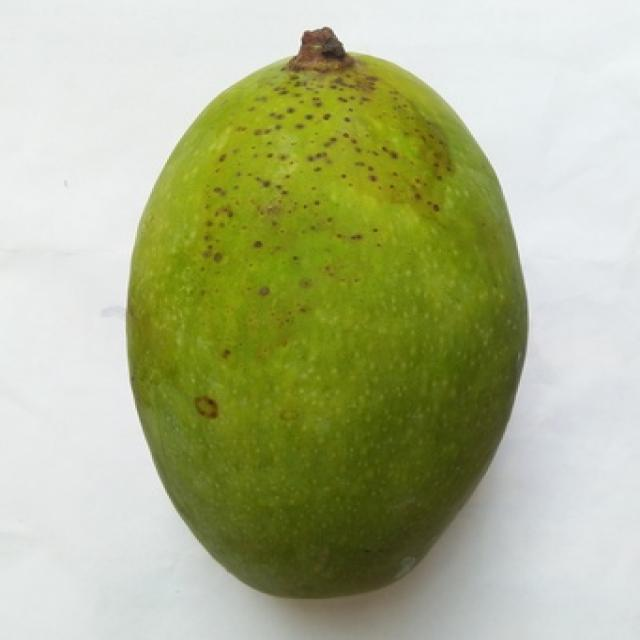Mango: (128, 32, 526, 595)
